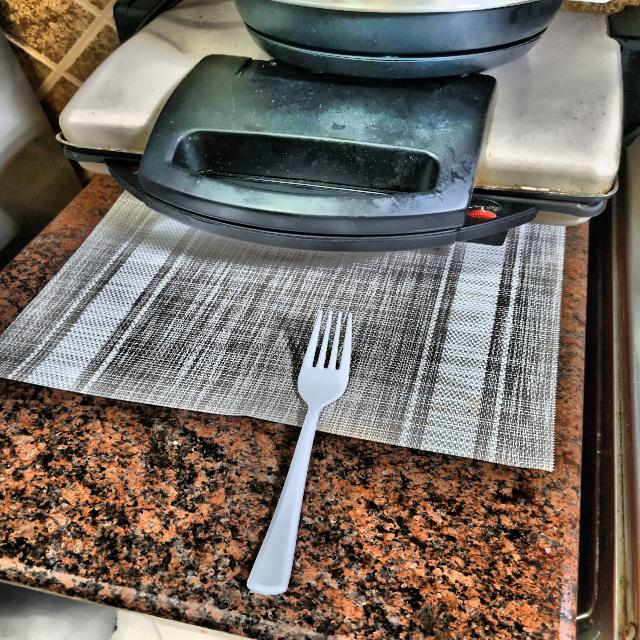plastic utensil: (235, 310, 363, 596)
